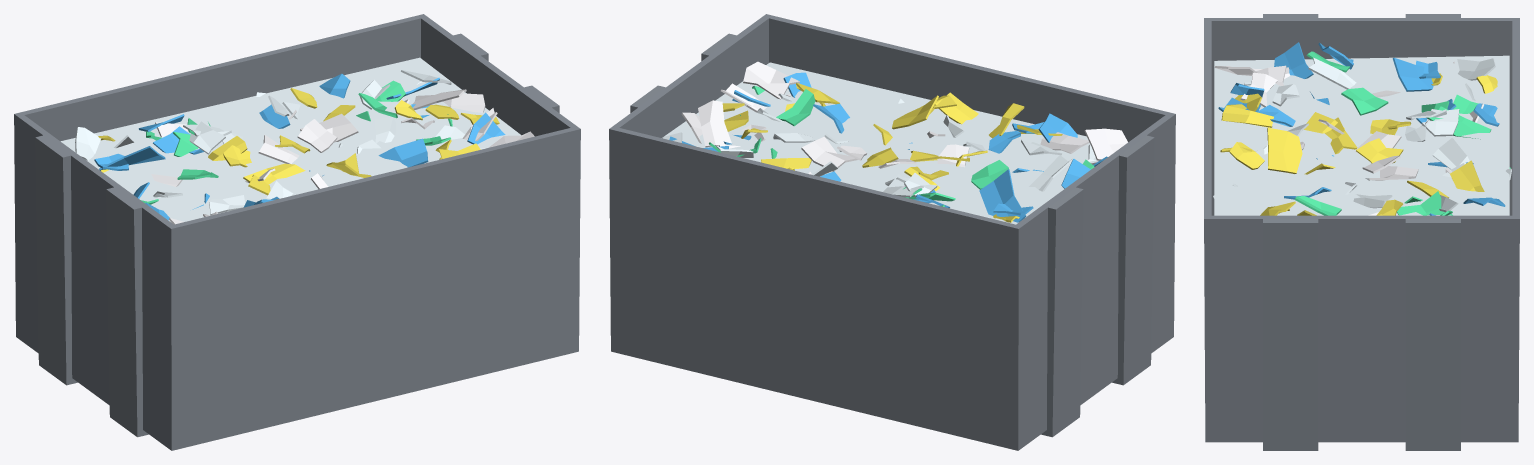
Rendered from Caja con trozito de plastico lavados y secados (sale de la 2da maquina de plastico).fbx.
The picture shows the model from 3 angles, left to right: view 1: azimuth 30°, elevation 25°; view 2: azimuth 150°, elevation 25°; view 3: azimuth 270°, elevation 25°; orthographic projection.
Parts seen in each view (by area): view 1: Contenedor_Plastico_Limpio.001; view 2: Contenedor_Plastico_Limpio.001; view 3: Contenedor_Plastico_Limpio.001.
Part boxes in pixels (bbox=[...]): Contenedor_Plastico_Limpio.001: bbox=[14, 14, 580, 450]; Contenedor_Plastico_Limpio.001: bbox=[609, 14, 1175, 450]; Contenedor_Plastico_Limpio.001: bbox=[1204, 14, 1519, 450].
Size of the model in its own units: 248 by 127 by 158.
